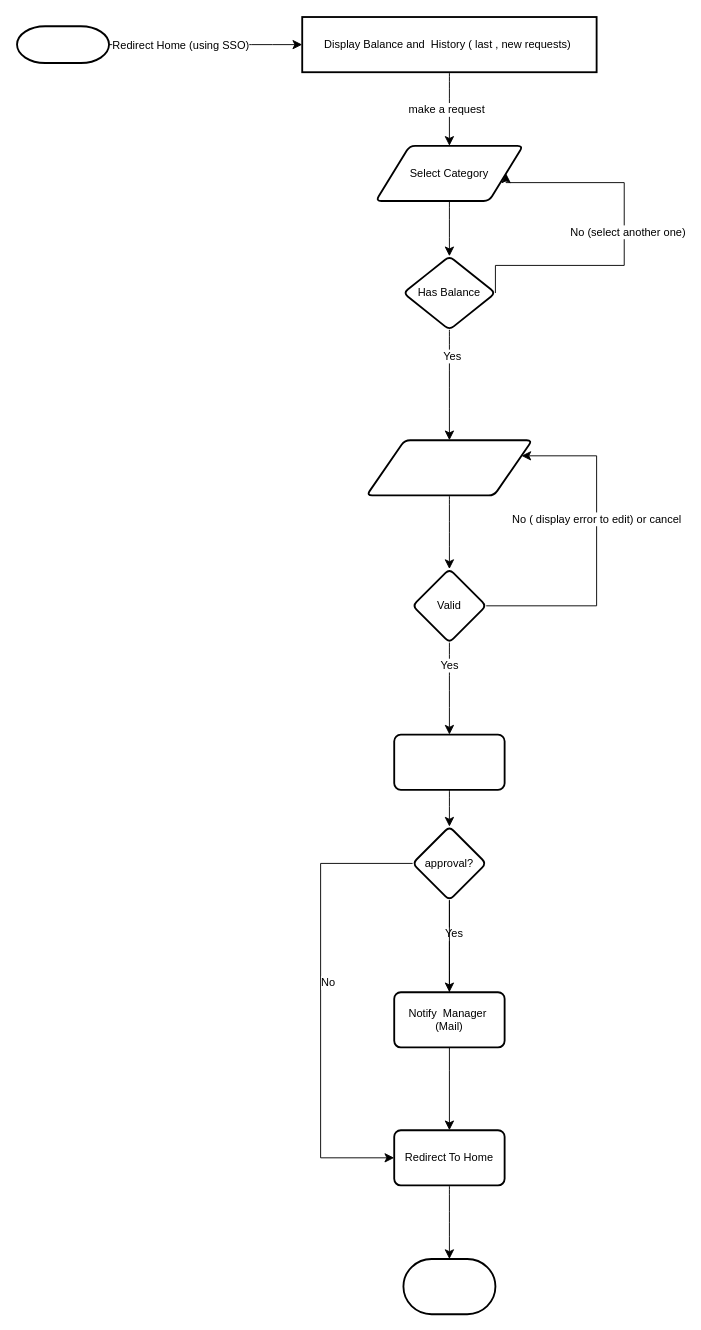
Some shapes in this 701 by 1330 pixel diagram are drawn without their labels. Here are the shapes that lost their labels. From the top down, the centre of each, then its label:
the point at 62,44: Open Portal
the point at 449,467: enter date , time
the point at 449,761: Save
the point at 449,1286: End
